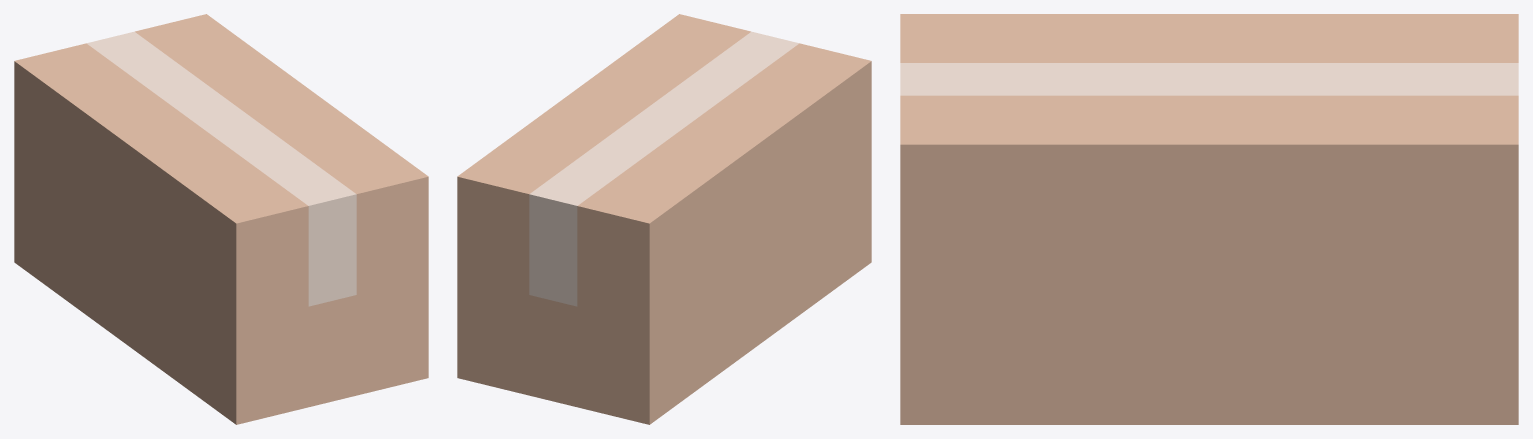
Rendered from box-long.fbx.
The picture shows the model from 3 angles, left to right: view 1: azimuth 30°, elevation 25°; view 2: azimuth 150°, elevation 25°; view 3: azimuth 270°, elevation 25°; orthographic projection. The views are drawn at different scales.
Parts seen in each view (by area): view 1: box-long; view 2: box-long; view 3: box-long.
Boxes of the visible parts, x1,y1,x2,y2 form: box-long: [14, 14, 428, 424]; box-long: [457, 14, 871, 424]; box-long: [900, 14, 1518, 424].
Size of the model in its own units: 50 by 50 by 100.
